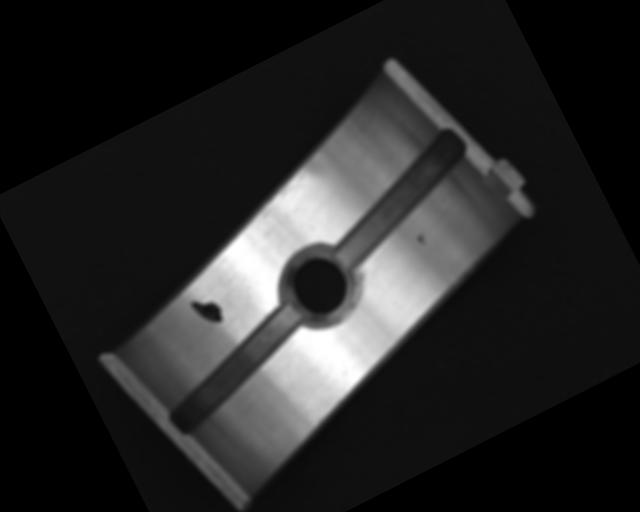blot: (189, 291, 227, 331)
bruise: (415, 232, 428, 247)
gap: (308, 128, 488, 273), (146, 303, 324, 440)
hole: (270, 238, 368, 339)
